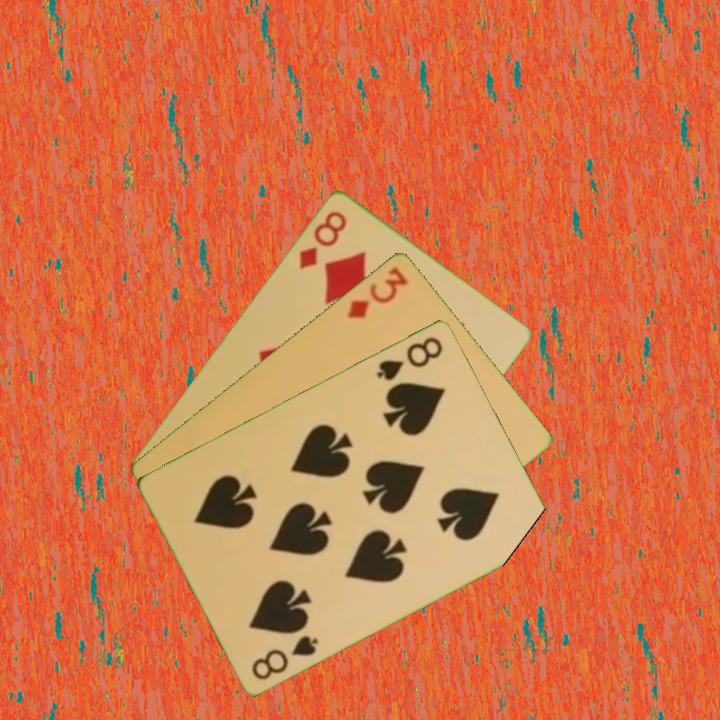3d: (343, 262, 411, 321)
8d: (295, 206, 350, 272)
8s: (248, 631, 321, 683), (373, 332, 446, 383)
